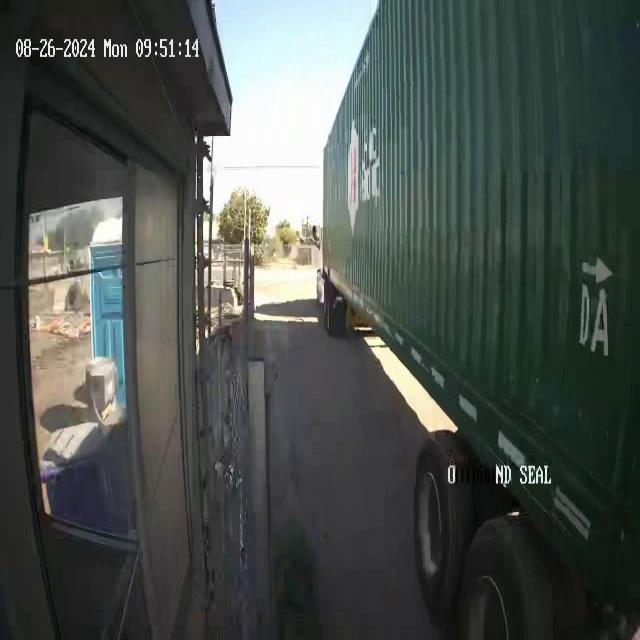TRUCK_OUT: (317, 1, 639, 630)
